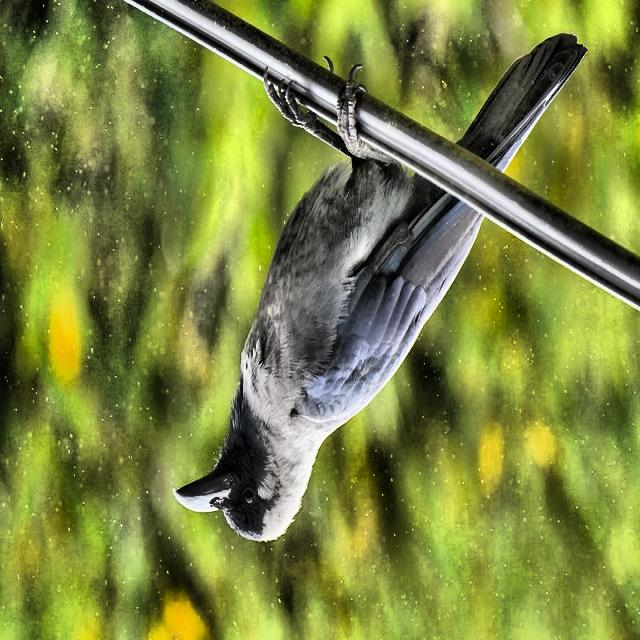crow: (173, 27, 595, 560)
